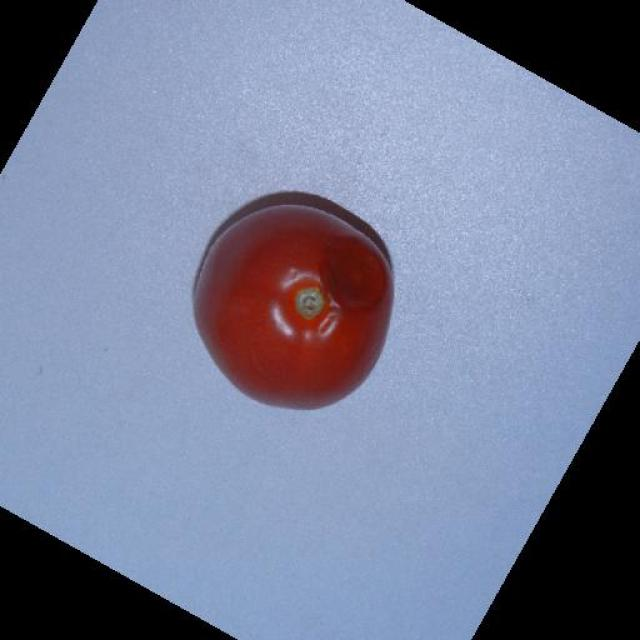Stale_tomato: (261, 214, 404, 416)
